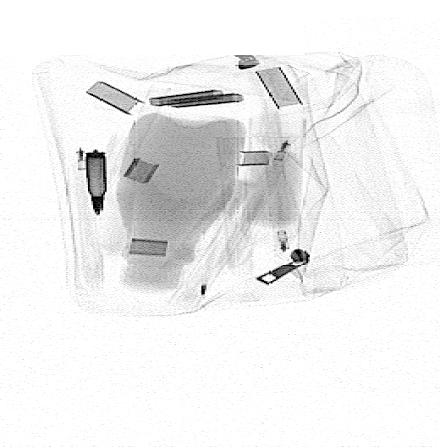Bullet: (85, 153, 108, 215)
